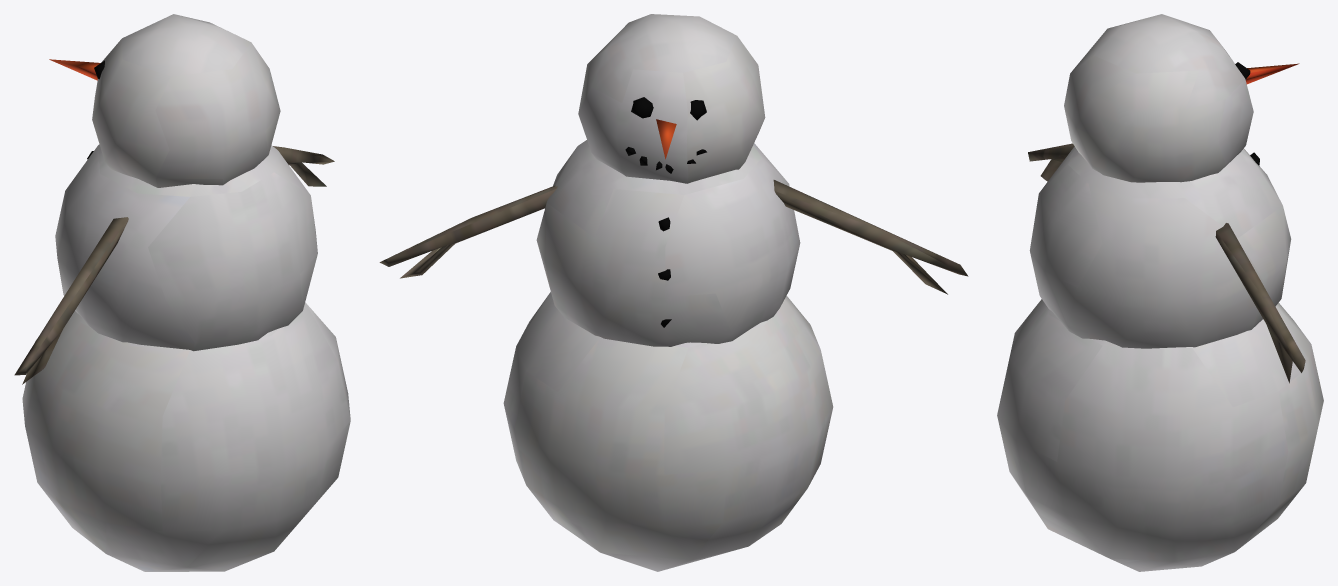
File: snowman_psx.glb
The picture shows the model from 3 angles, left to right: view 1: azimuth 30°, elevation 25°; view 2: azimuth 150°, elevation 25°; view 3: azimuth 270°, elevation 25°; orthographic projection.
Parts seen in each view (by area): view 1: SNOWMAN; view 2: SNOWMAN; view 3: SNOWMAN.
Part boxes in pixels (x1=…): SNOWMAN: x1=14, y1=14, x2=350, y2=571; SNOWMAN: x1=379, y1=14, x2=968, y2=571; SNOWMAN: x1=997, y1=14, x2=1323, y2=571.
Size of the model in its own units: 0.0221 by 0.0248 by 0.0138.
4 materials, 3 textured.
